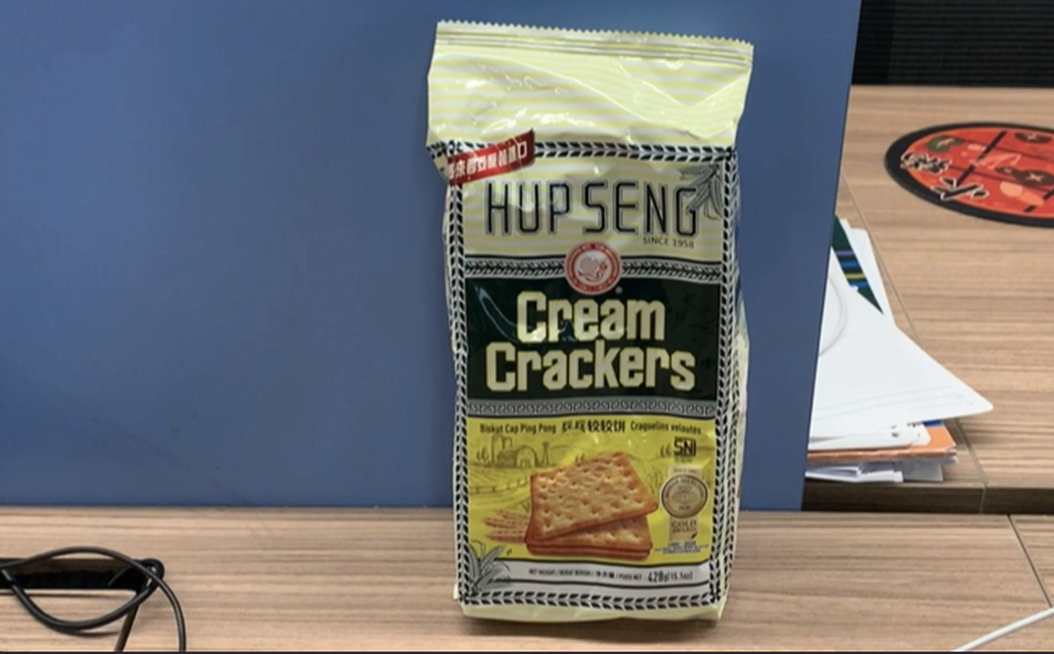crackers_450g: (456, 144, 724, 614)
